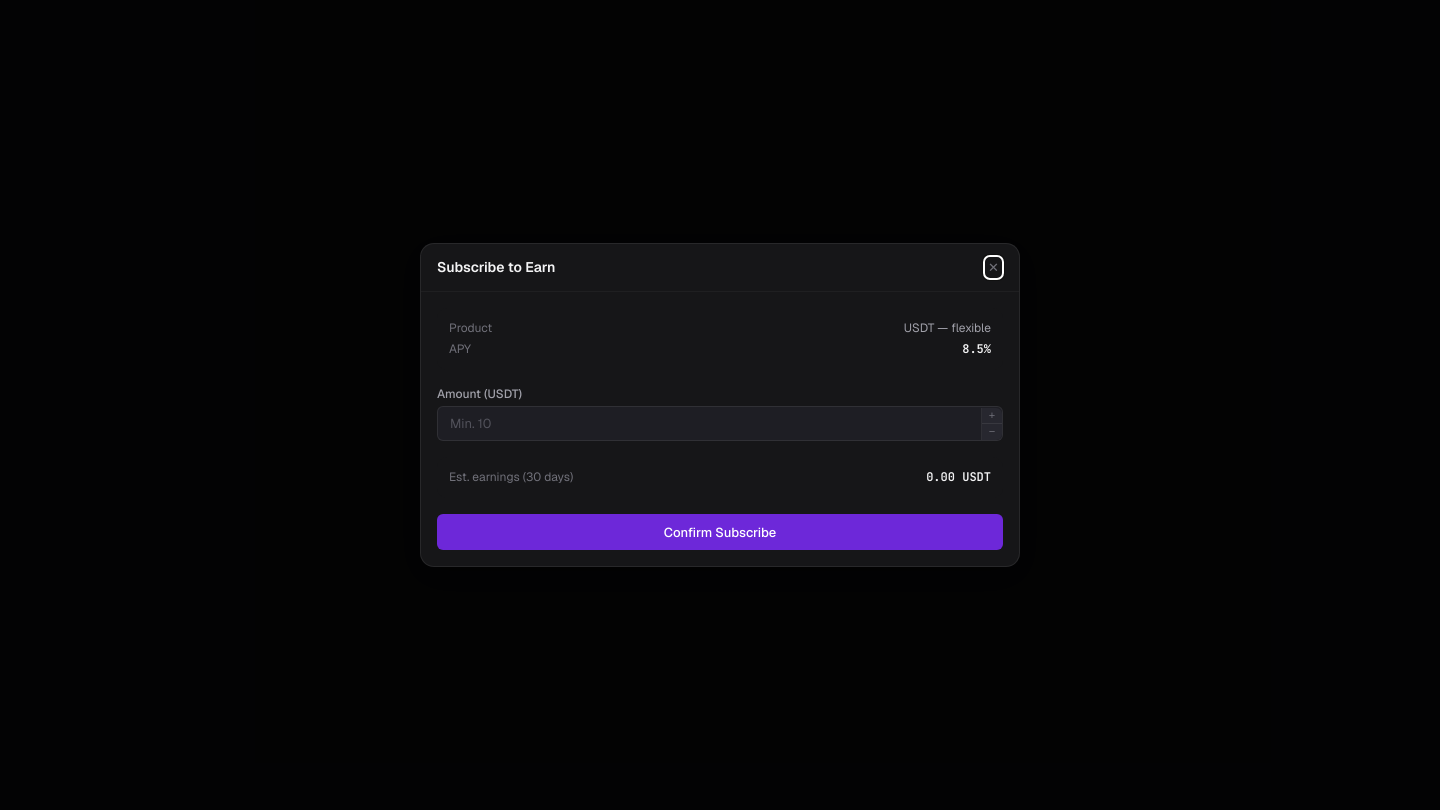
SubscribeModal › shows validation error when amount is below minimum
This screenshot has width=1440, height=810.
Type "5" into the field labelled "Amount (USDT)".
click(710, 424); type("5")  # box [438, 407, 981, 440]
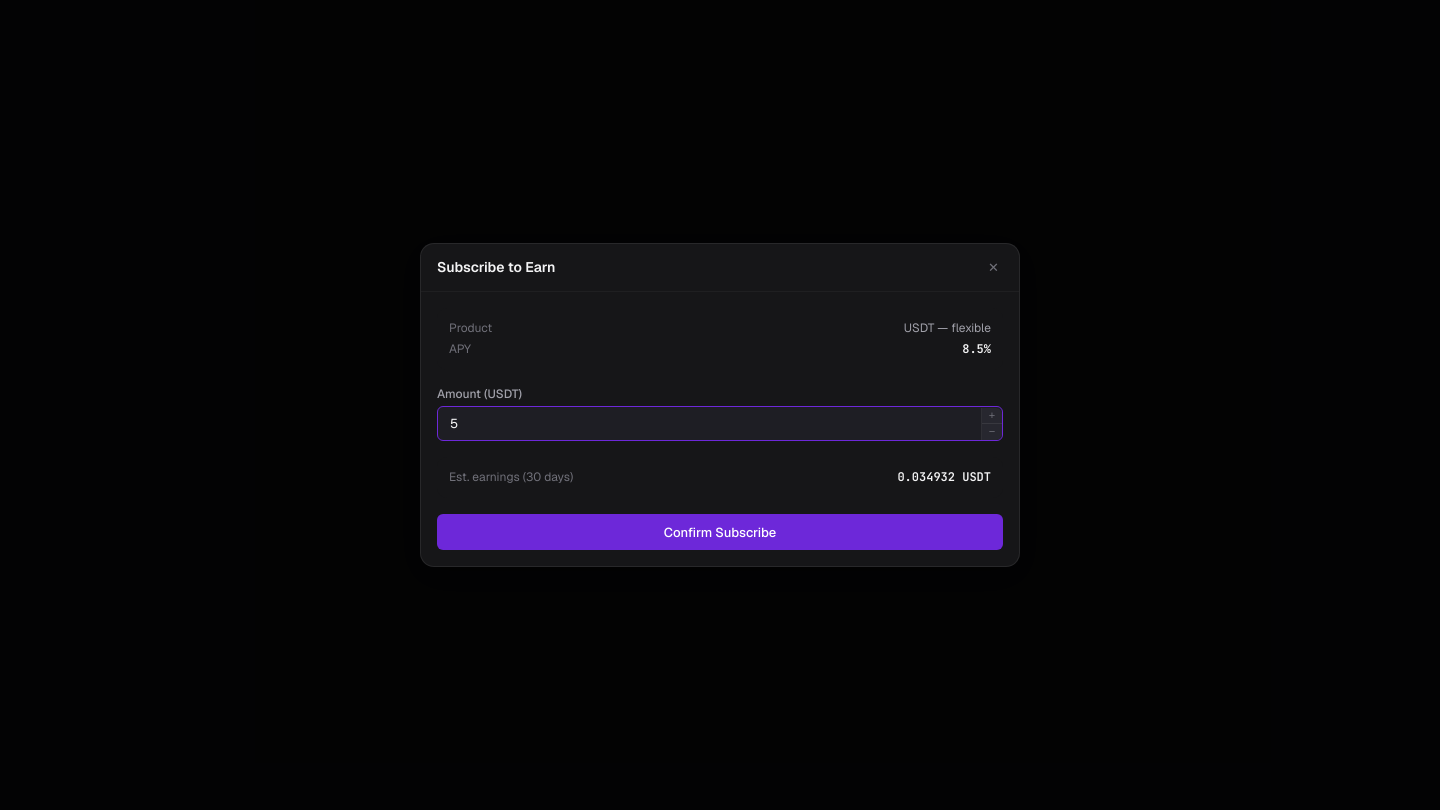
Click the button "Confirm Subscribe".
click(720, 532)  # box [437, 514, 1003, 550]
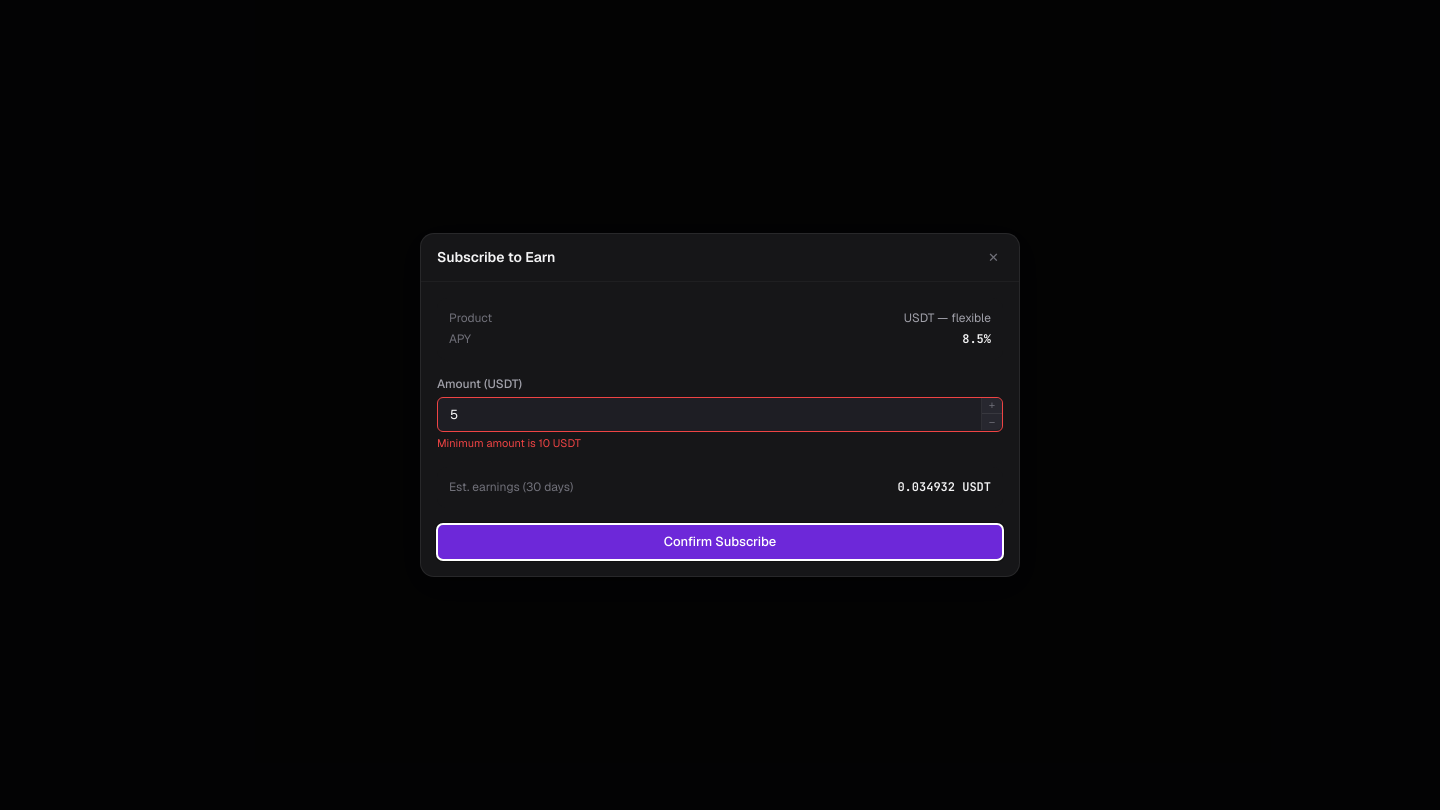
Now the text "Minimum amount is 10 USDT" is shown, box [437, 436, 581, 450]
